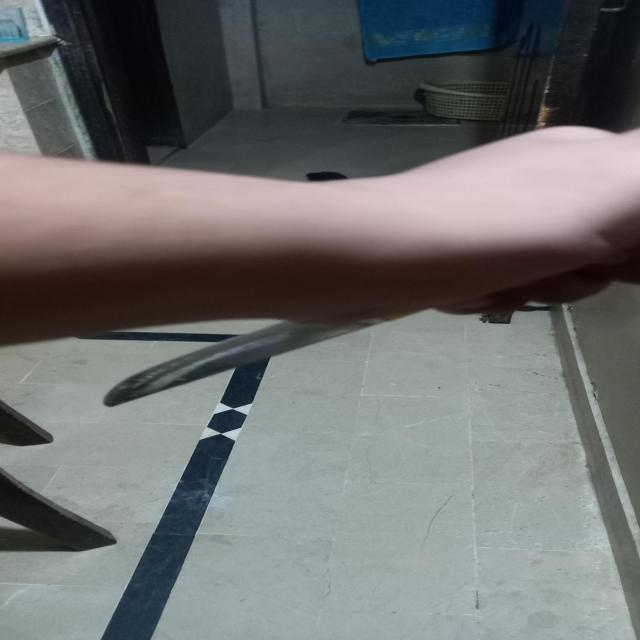Knife: (107, 318, 392, 405)
Person: (0, 122, 640, 346)
